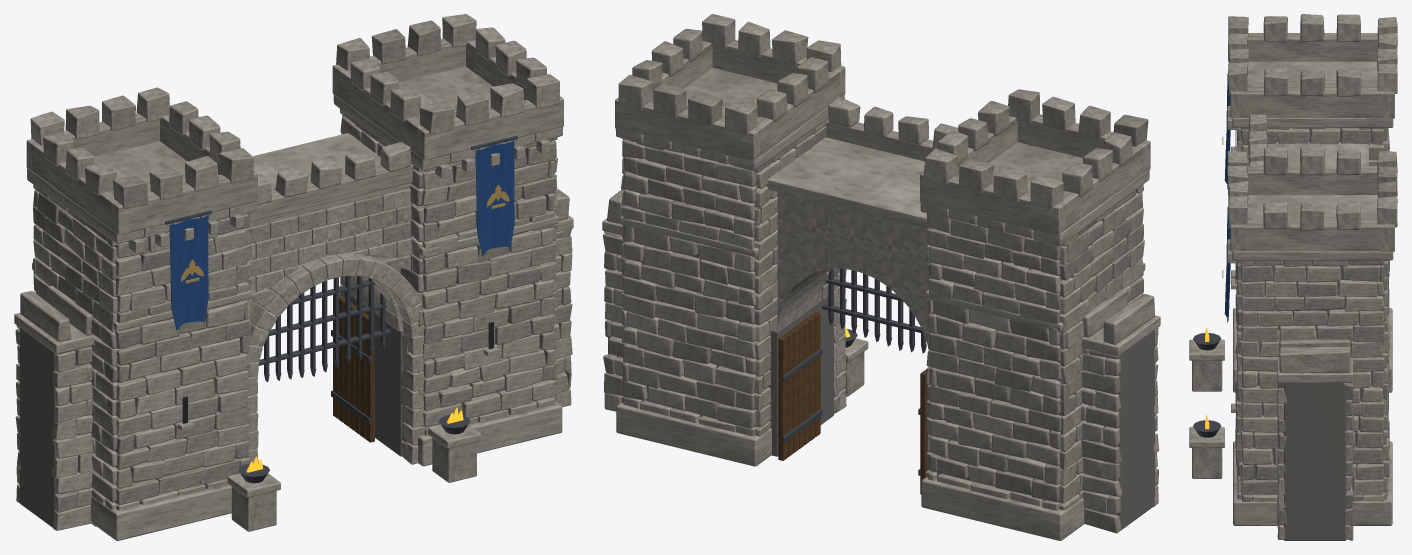
Rendered from gate.glb.
3 renders of one model, left to right at view 1: azimuth 30°, elevation 25°; view 2: azimuth 150°, elevation 25°; view 3: azimuth 270°, elevation 25°, orthographic. The views are drawn at different scales.
Visible parts, largest first — view 1: Wall socket continuous core, Battered tower foot, Tower parapet base, Tower parapet base.002, Portal crown coping, Royal blue Valoria banner.001, Royal blue Valoria banner, Portal continuous jamb core.001, Battered tower foot.001, Portal defensive parapet, Tower parapet base.001, Tower parapet return.002 (+74 smaller); view 2: Portal crown coping, Wall socket continuous core, Battered tower foot, Battered tower foot.001, Tower parapet base.003, Tower parapet base.001, Portal continuous jamb core.001, Tower parapet base, Tower parapet return.002, Tower parapet return, Tower parapet base.002, Walkable tower terrace.001 (+89 smaller); view 3: Wall socket continuous core.001, Tower parapet return.003, Tower parapet return.001, Tower parapet return, Tower parapet return.002, Battered tower foot.001, Walkable tower terrace, Walkable tower terrace.001, Wall socket crenel.003, Tower crown dressed coping.009, Tower crown dressed coping.004, Portal crown coping (+93 smaller).
Boxes of the visible parts, box(x1,y1,x2,y2) form: Wall socket continuous core: box(20, 328, 86, 527); Battered tower foot: box(90, 484, 231, 540); Tower parapet base: box(110, 171, 257, 235); Tower parapet base.002: box(416, 96, 563, 160); Portal crown coping: box(247, 133, 411, 227); Royal blue Valoria banner.001: box(475, 140, 514, 255); Royal blue Valoria banner: box(169, 215, 208, 330); Portal continuous jamb core.001: box(344, 292, 403, 456); Battered tower foot.001: box(417, 402, 562, 466); Portal defensive parapet: box(250, 164, 413, 221); Tower parapet base.001: box(26, 113, 159, 171); Tower parapet return.002: box(338, 69, 420, 154); Portal crown coping: box(766, 137, 929, 228); Wall socket continuous core: box(1094, 330, 1154, 530); Battered tower foot: box(921, 477, 1085, 540); Battered tower foot.001: box(616, 402, 771, 466); Tower parapet base.003: box(615, 97, 761, 161); Tower parapet base.001: box(920, 172, 1066, 235); Portal continuous jamb core.001: box(768, 292, 833, 456); Tower parapet base: box(1017, 114, 1150, 173); Tower parapet return.002: box(756, 70, 839, 156); Tower parapet return: box(1062, 145, 1143, 229); Tower parapet base.002: box(712, 40, 845, 97); Walkable tower terrace.001: box(683, 67, 777, 118); Wall socket continuous core.001: box(1283, 383, 1346, 540); Tower parapet return.003: box(1242, 220, 1383, 251); Tower parapet return.001: box(1242, 87, 1383, 118); Tower parapet return: box(1247, 33, 1377, 61); Tower parapet return.002: box(1247, 166, 1377, 194); Battered tower foot.001: box(1233, 441, 1392, 525); Walkable tower terrace: box(1247, 61, 1377, 87); Walkable tower terrace.001: box(1247, 195, 1377, 220); Wall socket crenel.003: box(1279, 347, 1350, 372); Tower crown dressed coping.009: box(1232, 251, 1393, 260); Tower crown dressed coping.004: box(1232, 118, 1393, 127); Portal crown coping: box(1267, 142, 1368, 166).
Size of the model in its own units: 11.58 by 7.65 by 4.52.
Materials: 55 (49 with a texture image).
